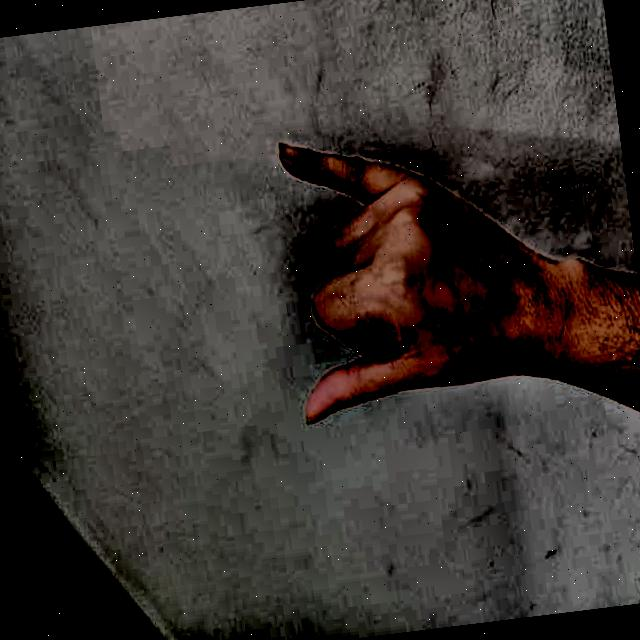Oi: (228, 82, 568, 476)
